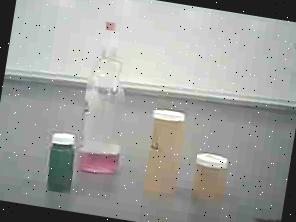Bottle A: (138, 106, 191, 204)
Bottle B: (185, 138, 234, 208)
Bottle C: (40, 130, 85, 196)
hazard: (65, 13, 154, 180)
